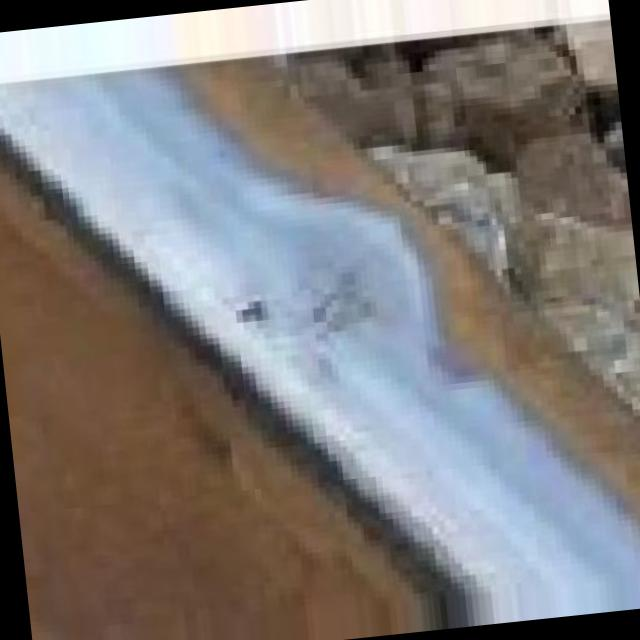defective: (73, 116, 610, 614)
